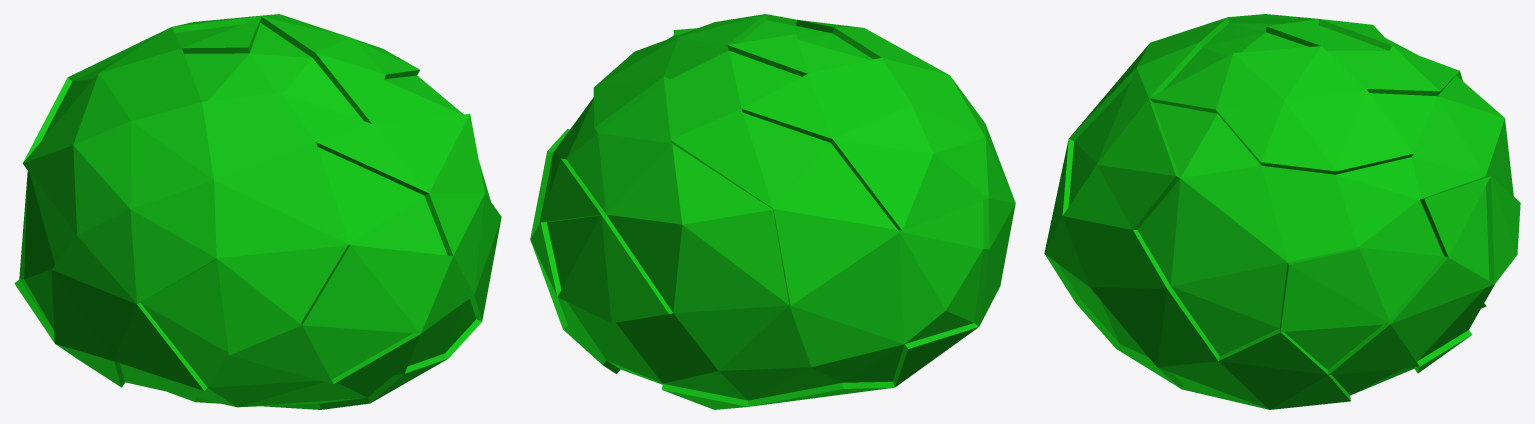
File: bush_A_02.fbx
The picture shows the model from 3 angles, left to right: view 1: azimuth 30°, elevation 25°; view 2: azimuth 150°, elevation 25°; view 3: azimuth 270°, elevation 25°; orthographic projection. The views are drawn at different scales.
Parts seen in each view (by area): view 1: bush_A_02; view 2: bush_A_02; view 3: bush_A_02.
Boxes of the visible parts, x1,y1,x2,y2 form: bush_A_02: [14, 14, 501, 409]; bush_A_02: [530, 14, 1015, 409]; bush_A_02: [1044, 14, 1520, 409].
Bounding box in the file's own units: 109 × 84.71 × 111.
